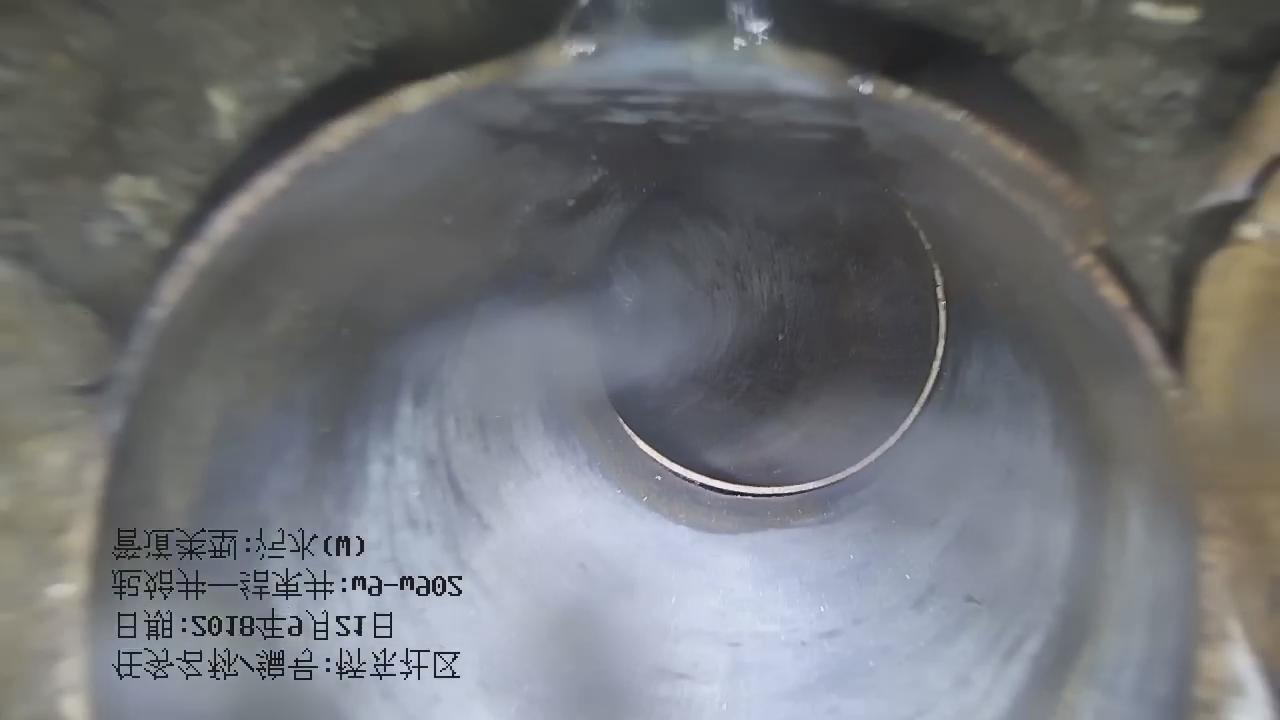CKTJ: (616, 207, 947, 499)
